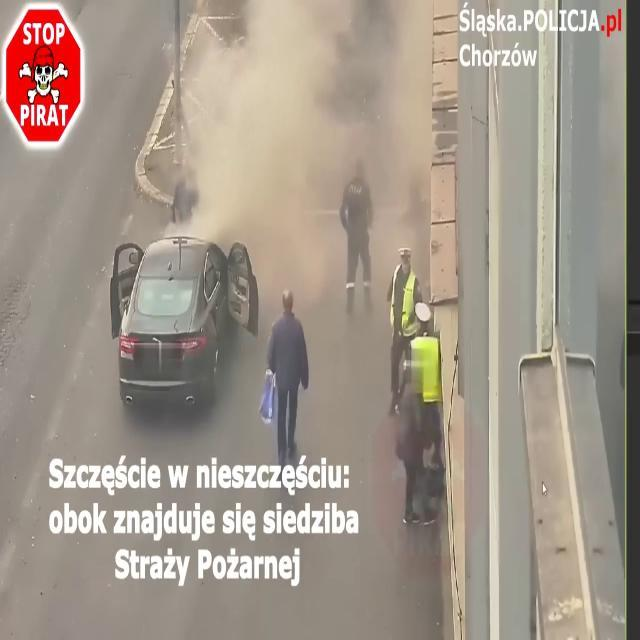Smoke: (180, 0, 431, 405)
